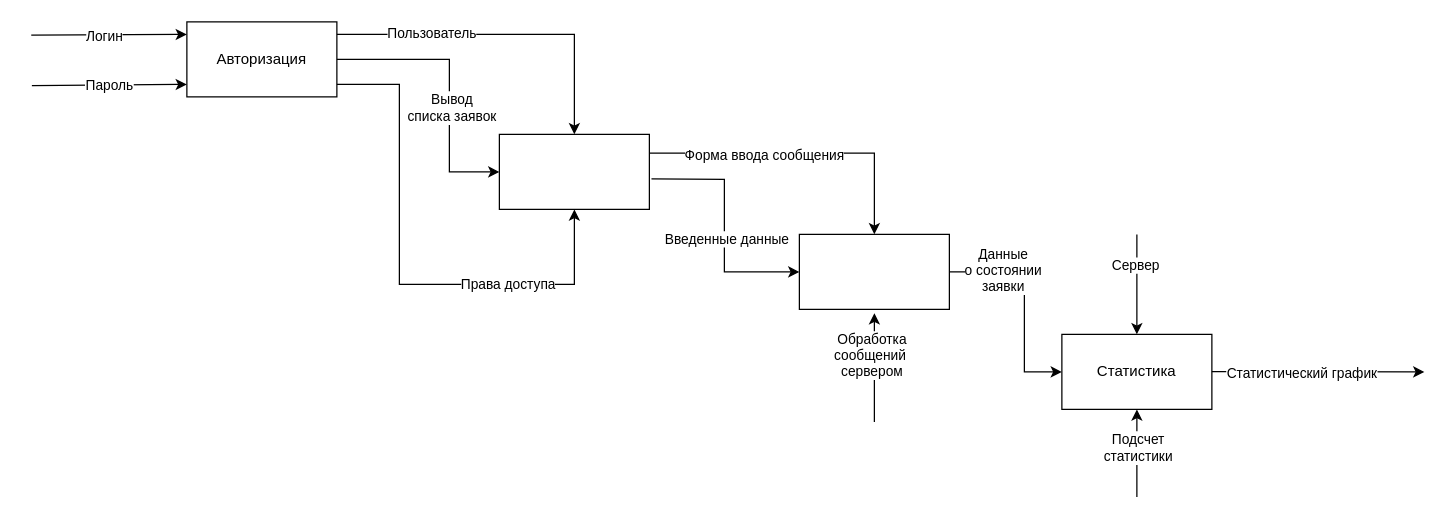
The diagram is 1456 pixels wide and 529 high, and some of its shapes have lost their labels. The centre of each missing label's shape, as x and y in pixels:
Сообщение: [873,271]
Список заявок: [573,171]
